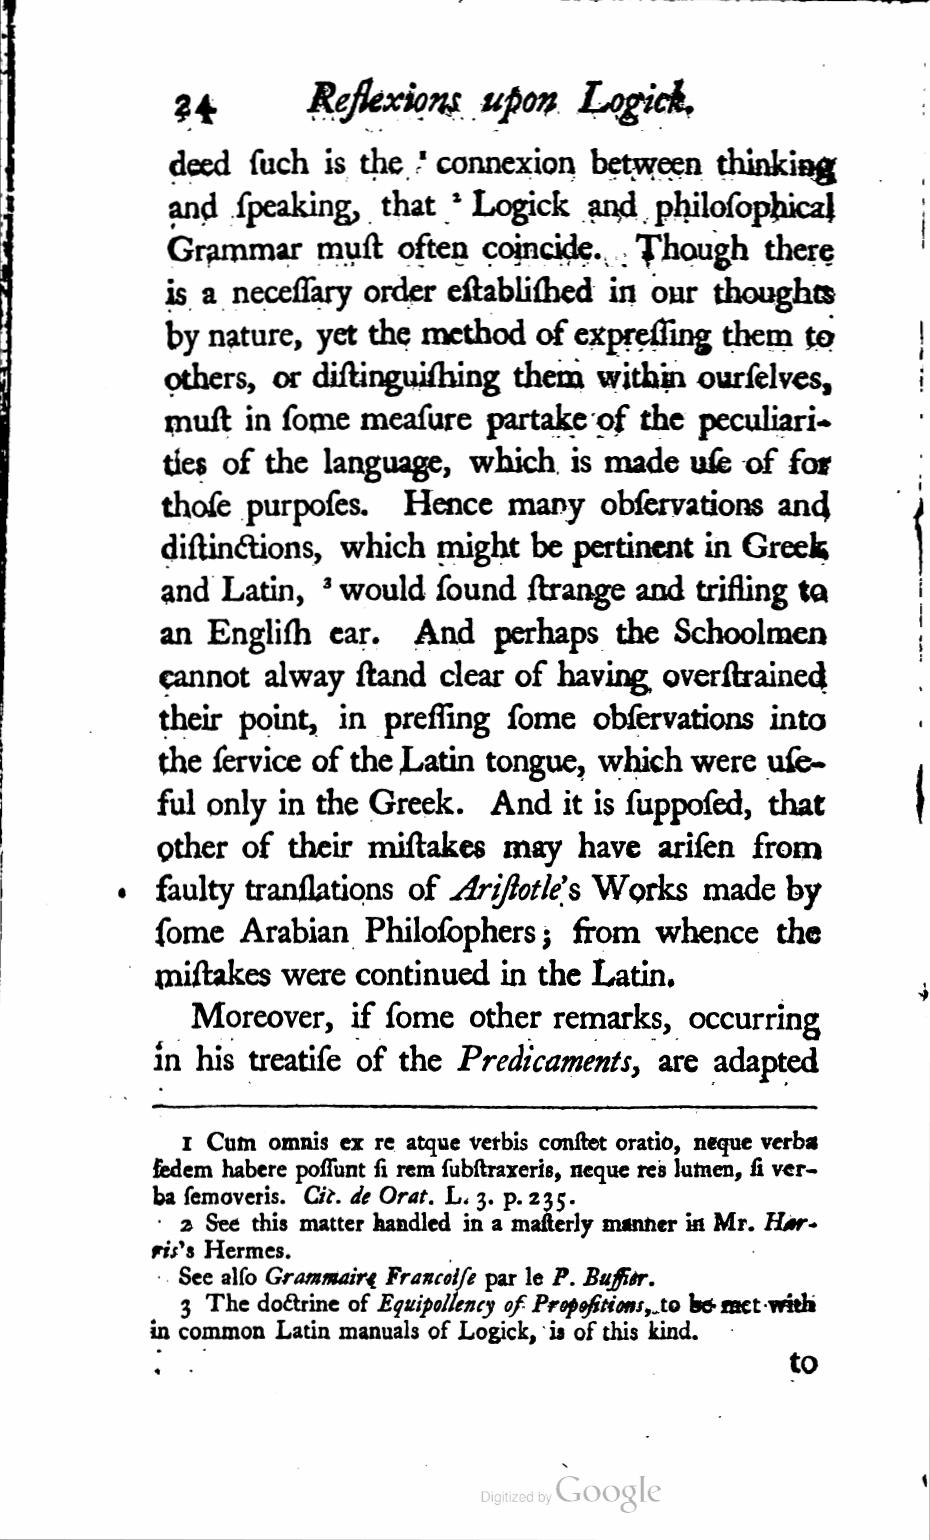bottom_p: (146, 142, 841, 994)
catchword: (785, 1347, 824, 1382)
footnotes: (146, 1124, 822, 1347)
header: (302, 73, 701, 130)
page_num: (167, 88, 221, 129)
top_p: (150, 998, 824, 1088)
